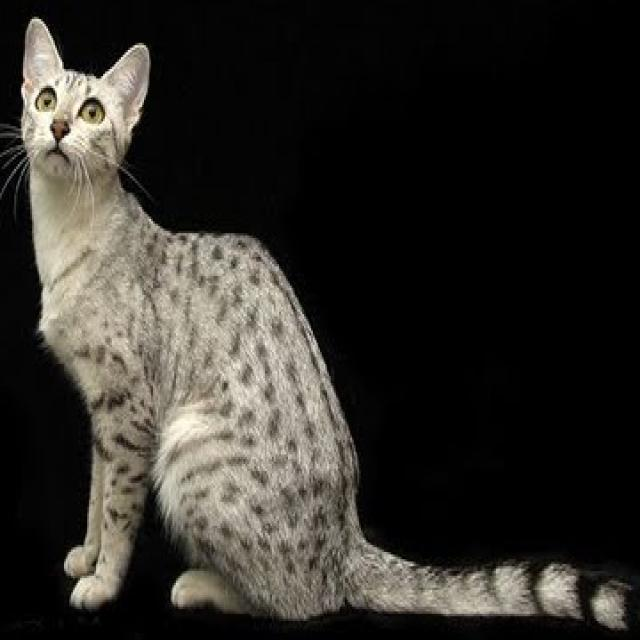Egyptian Mau: (14, 10, 640, 638)
